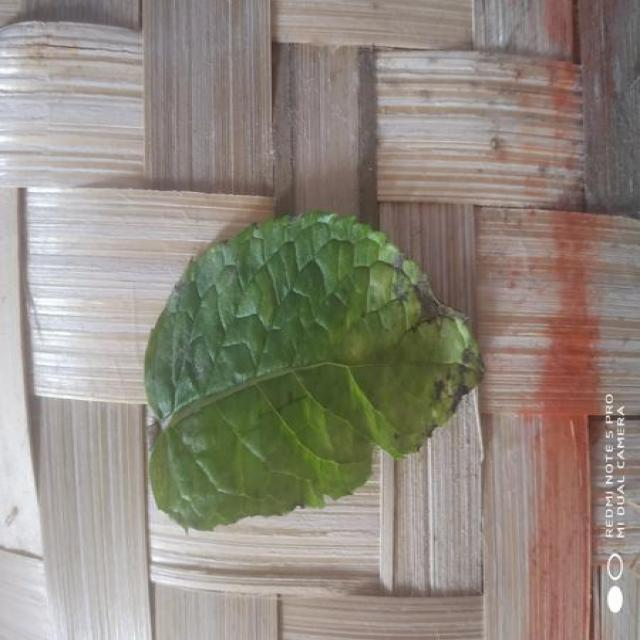mint: (145, 212, 483, 529)
